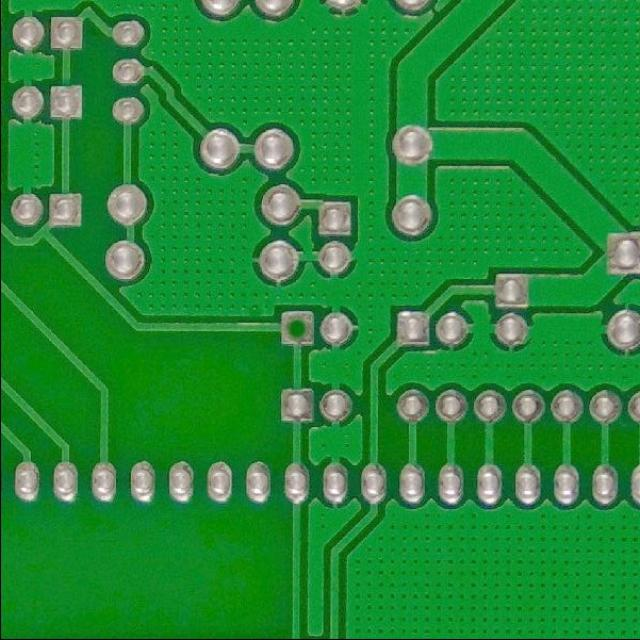missing_hole: (277, 314, 312, 348)
